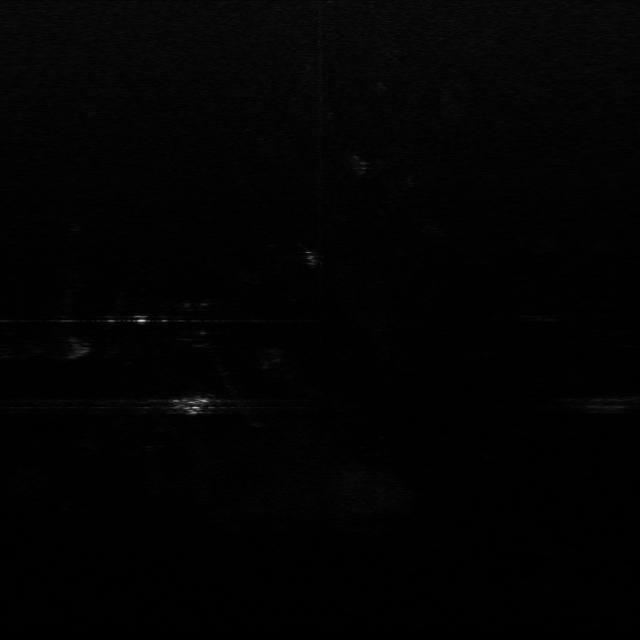rov: (168, 393, 213, 417)
